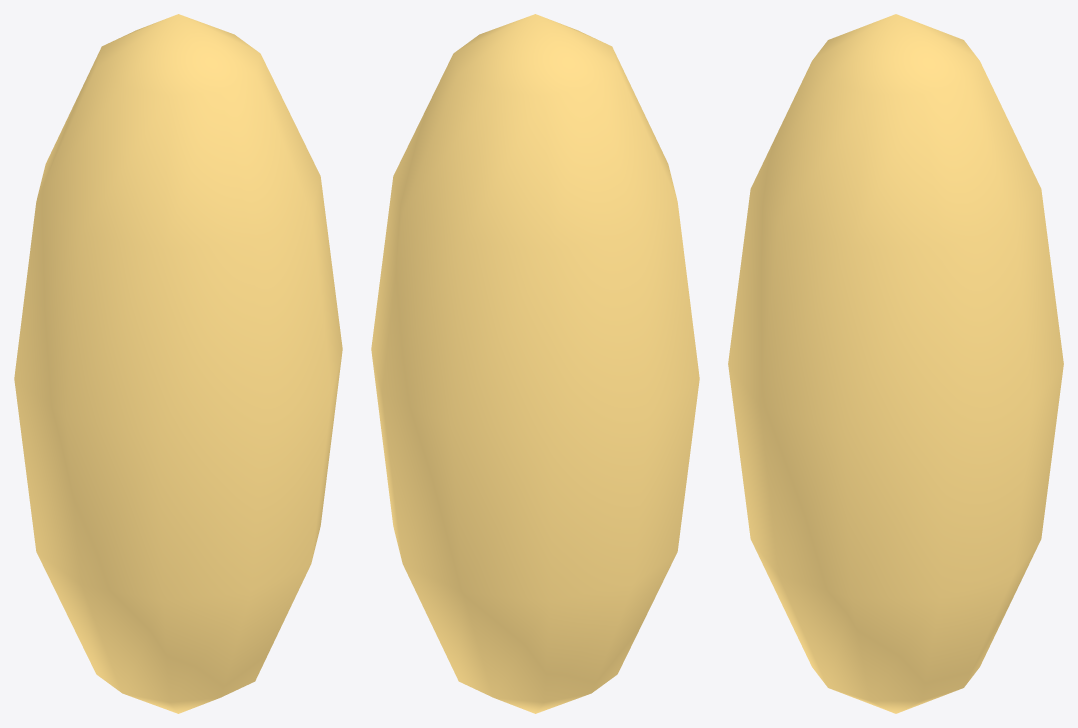
File: flame.glb
3 renders of one model, left to right at view 1: azimuth 30°, elevation 25°; view 2: azimuth 150°, elevation 25°; view 3: azimuth 270°, elevation 25°, orthographic.
Visible parts, largest first — view 1: flame; view 2: flame; view 3: flame.
Boxes of the visible parts, left/top/right/bottom form: flame: left=14, top=14, right=342, bottom=713; flame: left=371, top=14, right=699, bottom=713; flame: left=728, top=14, right=1063, bottom=713.
Size of the model in its own units: 0.0152 by 0.0368 by 0.016.
